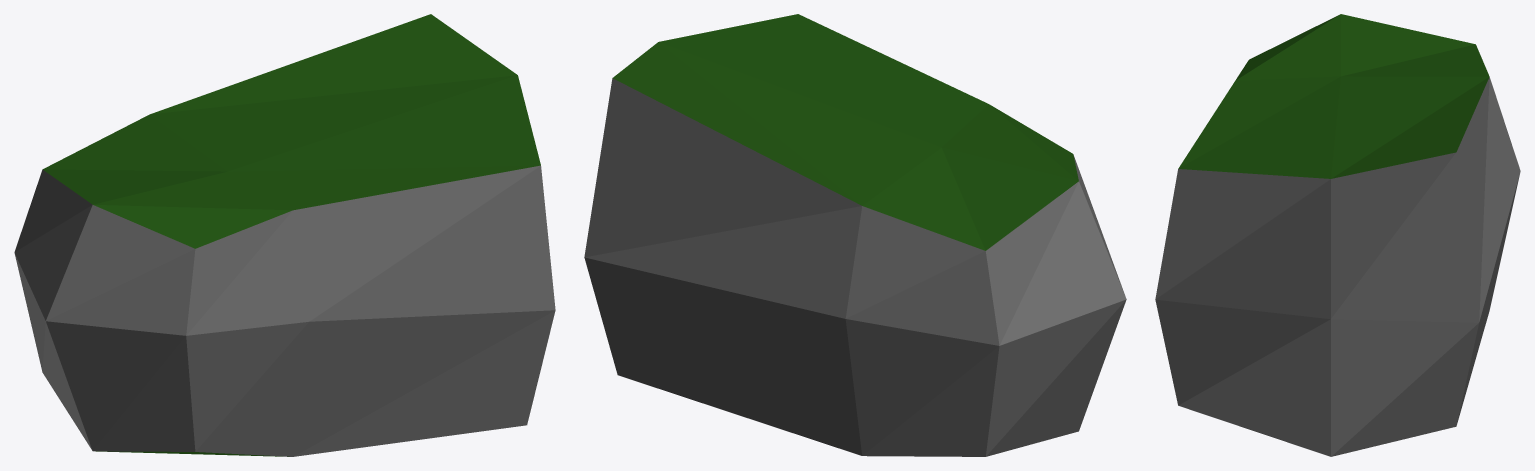
File: Stone2_6.fbx
The picture shows the model from 3 angles, left to right: view 1: azimuth 30°, elevation 25°; view 2: azimuth 150°, elevation 25°; view 3: azimuth 270°, elevation 25°; orthographic projection. The views are drawn at different scales.
Parts seen in each view (by area): view 1: Stone2_6; view 2: Stone2_6; view 3: Stone2_6.
Boxes of the visible parts, x1,y1,x2,y2 form: Stone2_6: (14, 14, 555, 456); Stone2_6: (584, 14, 1126, 456); Stone2_6: (1155, 14, 1520, 456).
Bounding box in the file's own units: 59.19 × 37.97 × 42.28.
